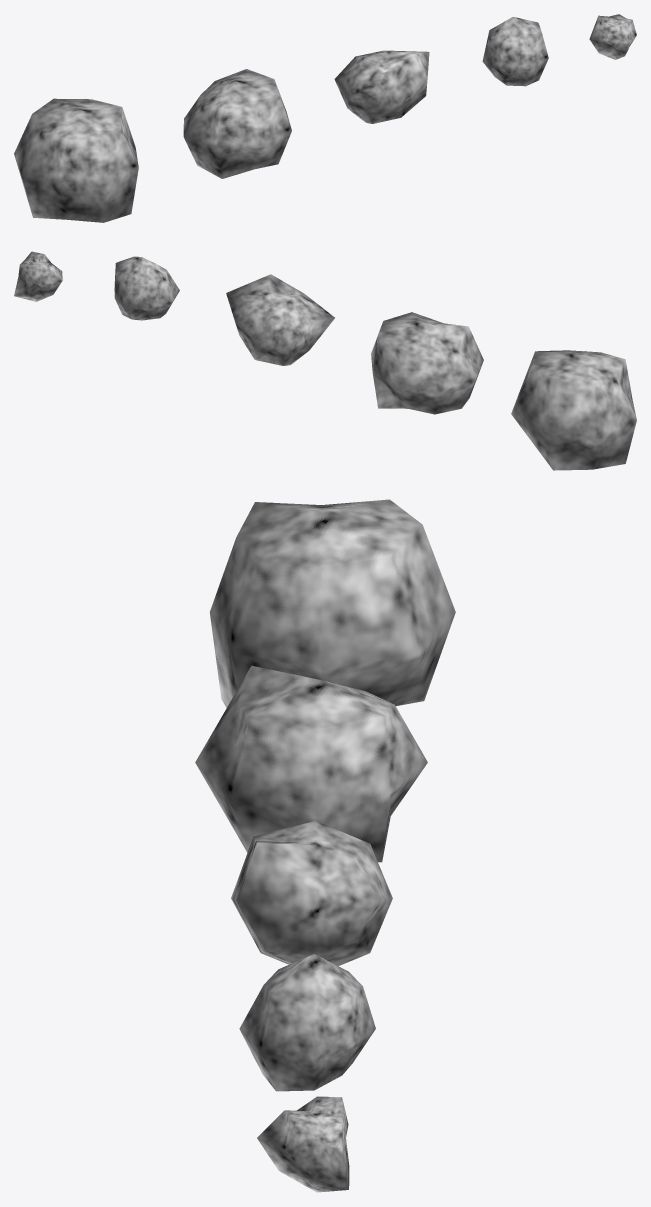
The picture shows the model from 3 angles, top to bottom: view 1: azimuth 30°, elevation 25°; view 2: azimuth 150°, elevation 25°; view 3: azimuth 270°, elevation 25°; orthographic projection. The views are drawn at different scales.
Parts seen in each view (by area): view 1: asteroid 01.005, asteroid 01.006, asteroid 01.007, asteroid 01.008, asteroid 01.009; view 2: asteroid 01.005, asteroid 01.006, asteroid 01.007, asteroid 01.008, asteroid 01.009; view 3: asteroid 01.005, asteroid 01.006, asteroid 01.007, asteroid 01.008, asteroid 01.009.
Part boxes in pixels (x1=…): asteroid 01.005: x1=14, y1=98, x2=138, y2=222; asteroid 01.006: x1=183, y1=69, x2=291, y2=178; asteroid 01.007: x1=334, y1=50, x2=429, y2=123; asteroid 01.008: x1=482, y1=17, x2=548, y2=86; asteroid 01.009: x1=589, y1=14, x2=636, y2=59; asteroid 01.005: x1=511, y1=350, x2=636, y2=470; asteroid 01.006: x1=371, y1=312, x2=483, y2=414; asteroid 01.007: x1=226, y1=274, x2=334, y2=365; asteroid 01.008: x1=114, y1=256, x2=179, y2=320; asteroid 01.009: x1=14, y1=251, x2=62, y2=301; asteroid 01.005: x1=209, y1=499, x2=455, y2=707; asteroid 01.006: x1=195, y1=665, x2=427, y2=862; asteroid 01.007: x1=231, y1=821, x2=392, y2=965; asteroid 01.008: x1=239, y1=954, x2=375, y2=1091; asteroid 01.009: x1=257, y1=1096, x2=349, y2=1192.
Bounding box in the file's own units: 20.68 × 3.25 × 3.85.
1 material, 1 textured.
